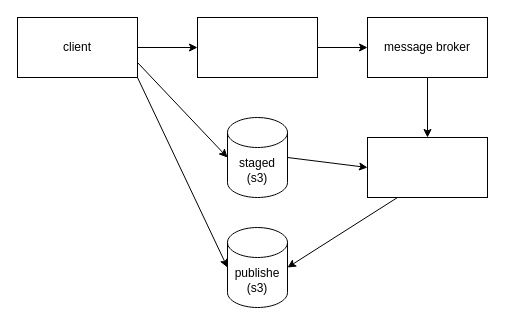
Image size: 505x325. Some labels were removed from this diagram. The shapes that lost their labels are listed below. From the top down, each one's centre as x and y in pixels, then its label:
the point at 257,47: api
the point at 427,167: image process worker
